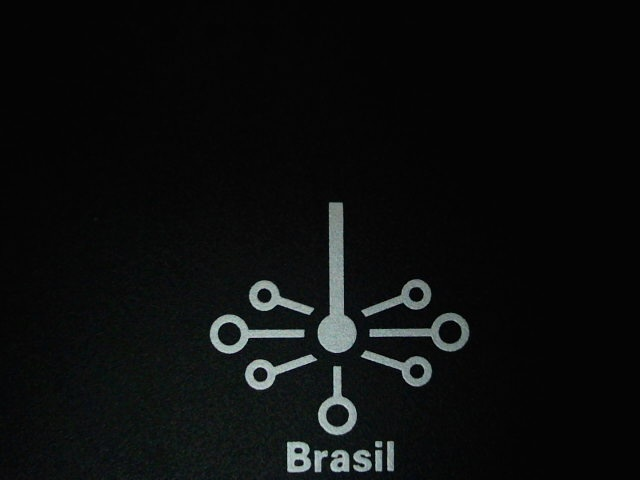BG_Brasil: (140, 147, 539, 479)
